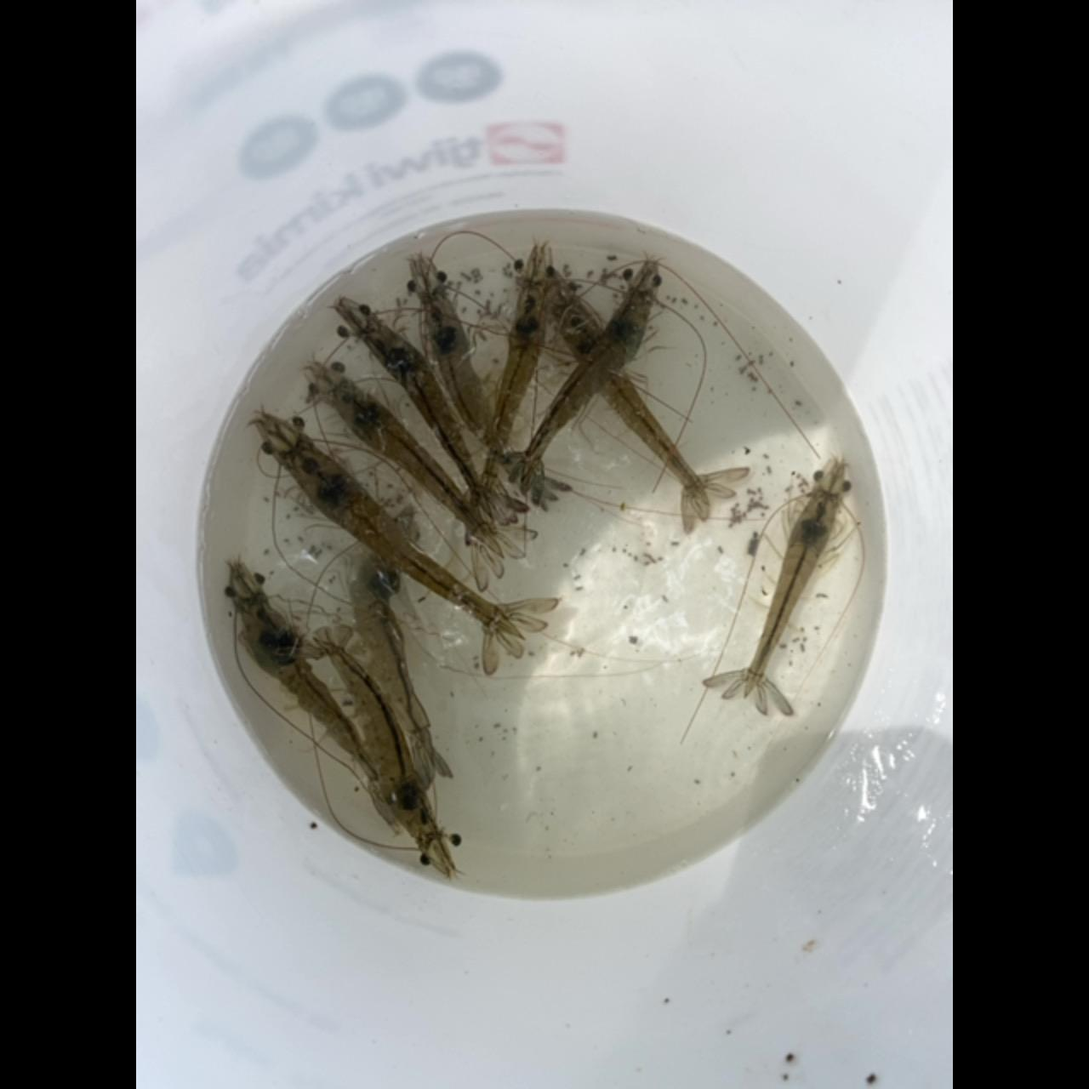side_shrimp: (352, 512, 437, 761)
top_shrimp: (281, 435, 529, 643), (241, 598, 407, 818), (324, 379, 506, 558), (554, 298, 710, 504), (361, 321, 496, 520), (310, 635, 437, 843), (520, 285, 651, 483), (423, 290, 540, 498), (744, 489, 836, 700), (483, 276, 549, 504)
